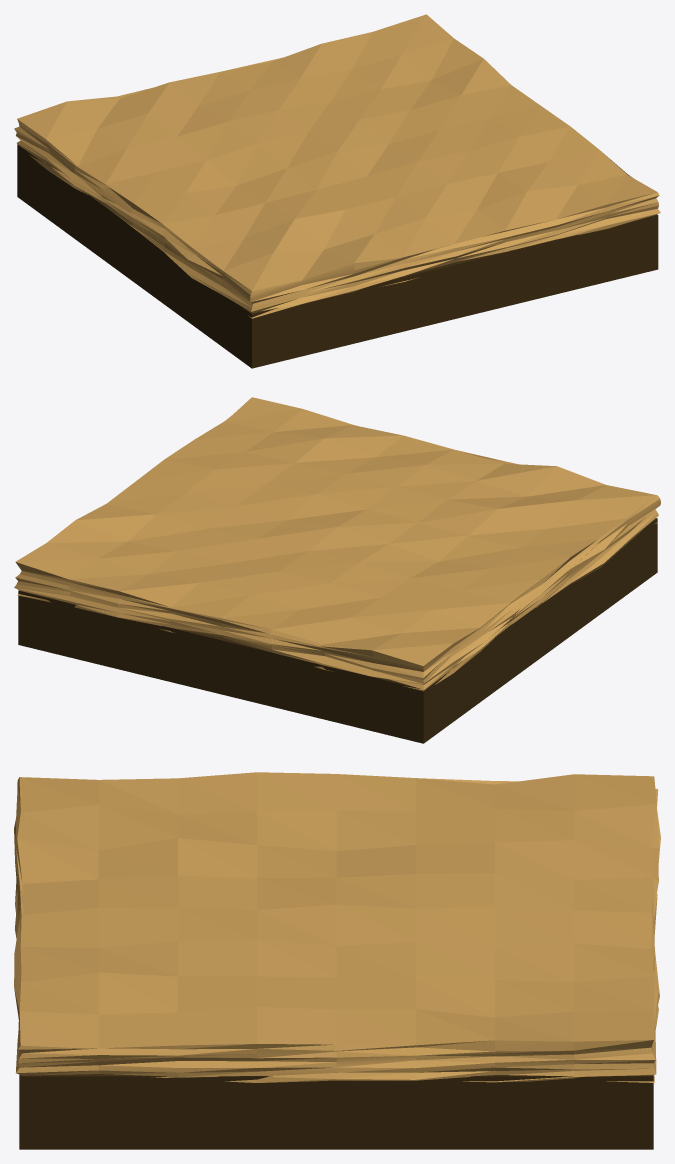
Rendered from FLOOR7.fbx.
The picture shows the model from 3 angles, top to bottom: view 1: azimuth 30°, elevation 25°; view 2: azimuth 150°, elevation 25°; view 3: azimuth 270°, elevation 25°; orthographic projection. The views are drawn at different scales.
Parts seen in each view (by area): view 1: Cube_2, Cube, Cube_1; view 2: Cube_2, Cube, Cube_1; view 3: Cube_2, Cube, Cube_1.
Boxes of the visible parts, box(x1,y1,x2,y2) form: Cube_2: box(14, 14, 660, 318); Cube: box(17, 170, 658, 368); Cube_1: box(17, 144, 658, 341); Cube_2: box(14, 397, 660, 691); Cube: box(18, 545, 657, 743); Cube_1: box(18, 518, 657, 716); Cube_2: box(14, 772, 660, 1082); Cube: box(19, 1113, 653, 1149); Cube_1: box(19, 1074, 653, 1113).
Size of the model in its own units: 410 by 77.73 by 408.
